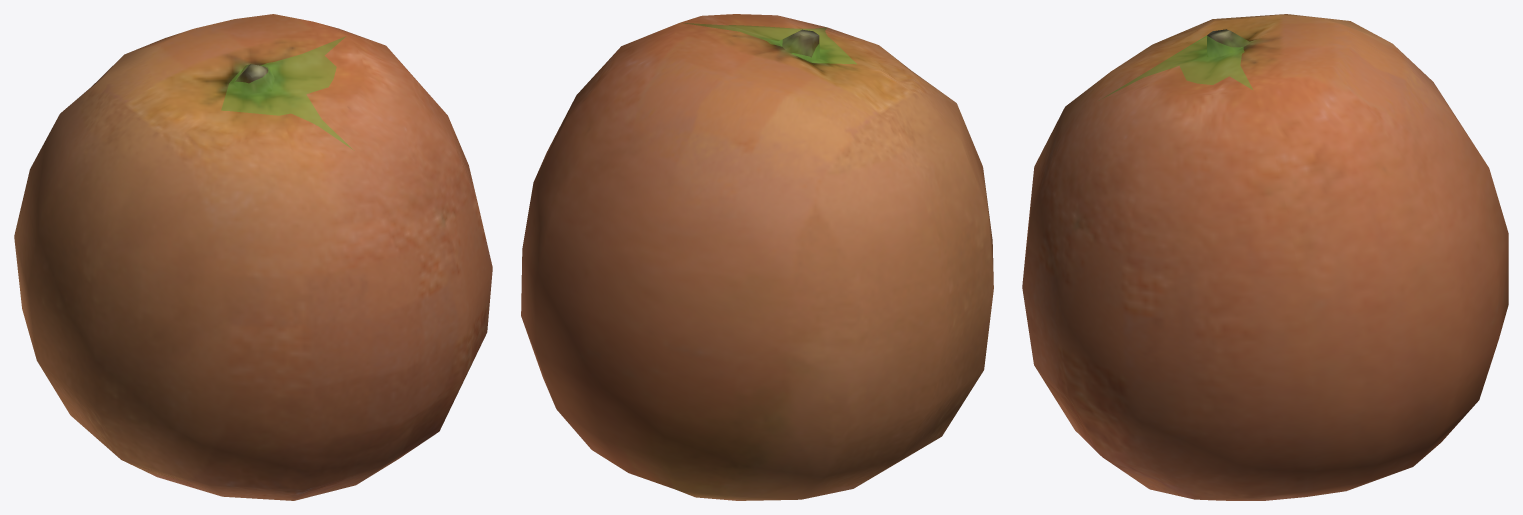
File: pg_Tangerine_02.fbx
3 renders of one model, left to right at view 1: azimuth 30°, elevation 25°; view 2: azimuth 150°, elevation 25°; view 3: azimuth 270°, elevation 25°, orthographic. The views are drawn at different scales.
Visible parts, largest first — view 1: pg_Tangerine_02_a_LOD0, pg_Tangerine_02_a_col; view 2: pg_Tangerine_02_a_LOD0, pg_Tangerine_02_a_col; view 3: pg_Tangerine_02_a_LOD0, pg_Tangerine_02_a_col.
Boxes of the visible parts, <box> form: pg_Tangerine_02_a_LOD0: <box>14,14,492,500</box>; pg_Tangerine_02_a_col: <box>221,36,352,149</box>; pg_Tangerine_02_a_LOD0: <box>521,14,993,500</box>; pg_Tangerine_02_a_col: <box>681,22,856,64</box>; pg_Tangerine_02_a_LOD0: <box>1022,14,1508,500</box>; pg_Tangerine_02_a_col: <box>1102,35,1252,98</box>.
Size of what is drawn, in the model's own units: 5.99 by 5.83 by 6.03.
Materials: 2 (1 with a texture image).
